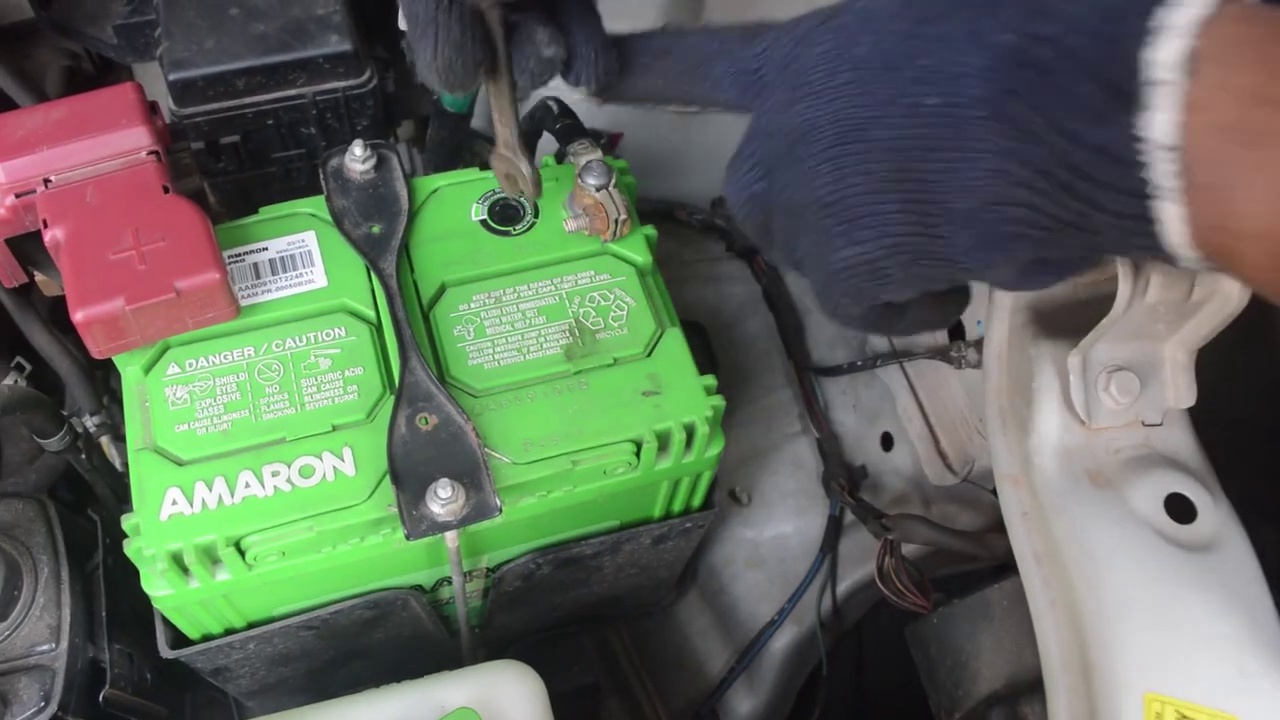battery: (109, 127, 698, 610)
neg_connected: (532, 102, 648, 268)
pos_connected: (15, 107, 254, 355)
